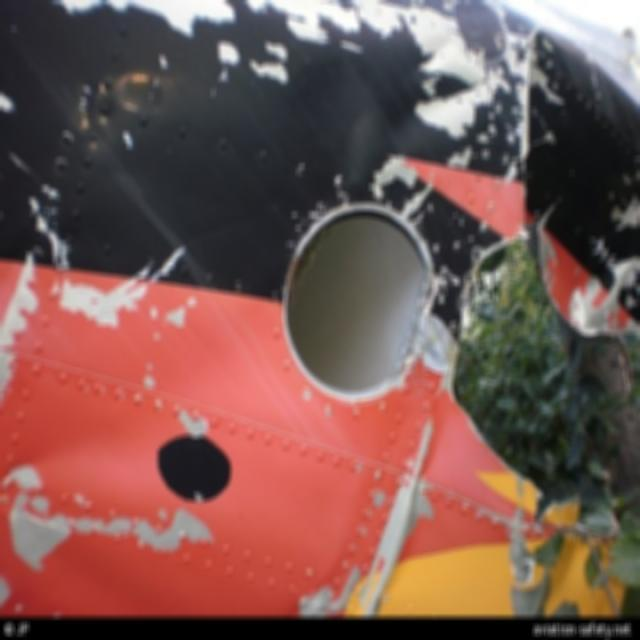dent: (290, 57, 424, 188), (2, 423, 161, 503)
